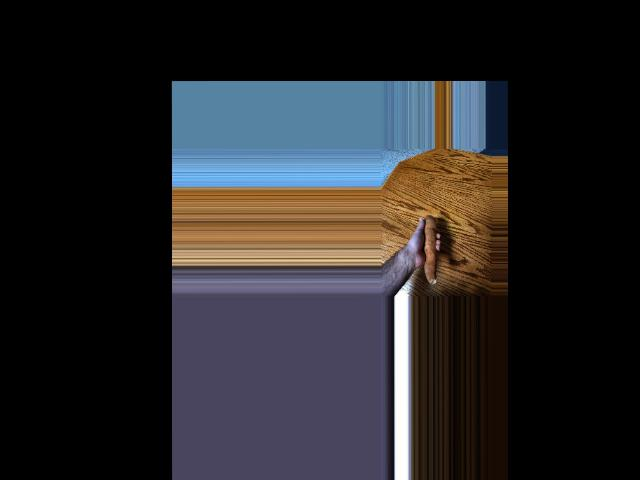sweet_potato: (416, 214, 437, 285)
